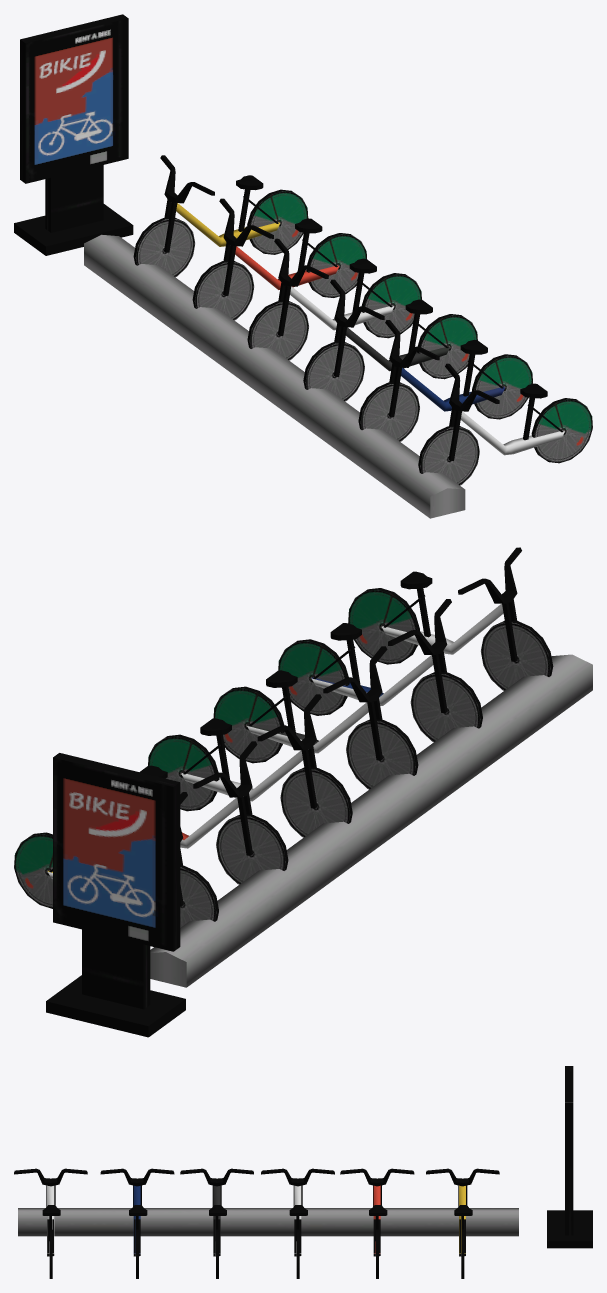
Rendered from 00_03_outside_bikestand_A.dae.
3 renders of one model, top to bottom at view 1: azimuth 30°, elevation 25°; view 2: azimuth 150°, elevation 25°; view 3: azimuth 270°, elevation 25°, orthographic. The views are drawn at different scales.
Visible parts, largest first — view 1: bikie_stand_A; view 2: bikie_stand_A; view 3: bikie_stand_A.
Boxes of the visible parts, left/top/right/bottom form: bikie_stand_A: left=14, top=14, right=592, bottom=518; bikie_stand_A: left=14, top=547, right=592, bottom=1037; bikie_stand_A: left=14, top=1066, right=592, bottom=1278.
Size of the model in its own units: 2.99 by 2.78 by 9.81.
